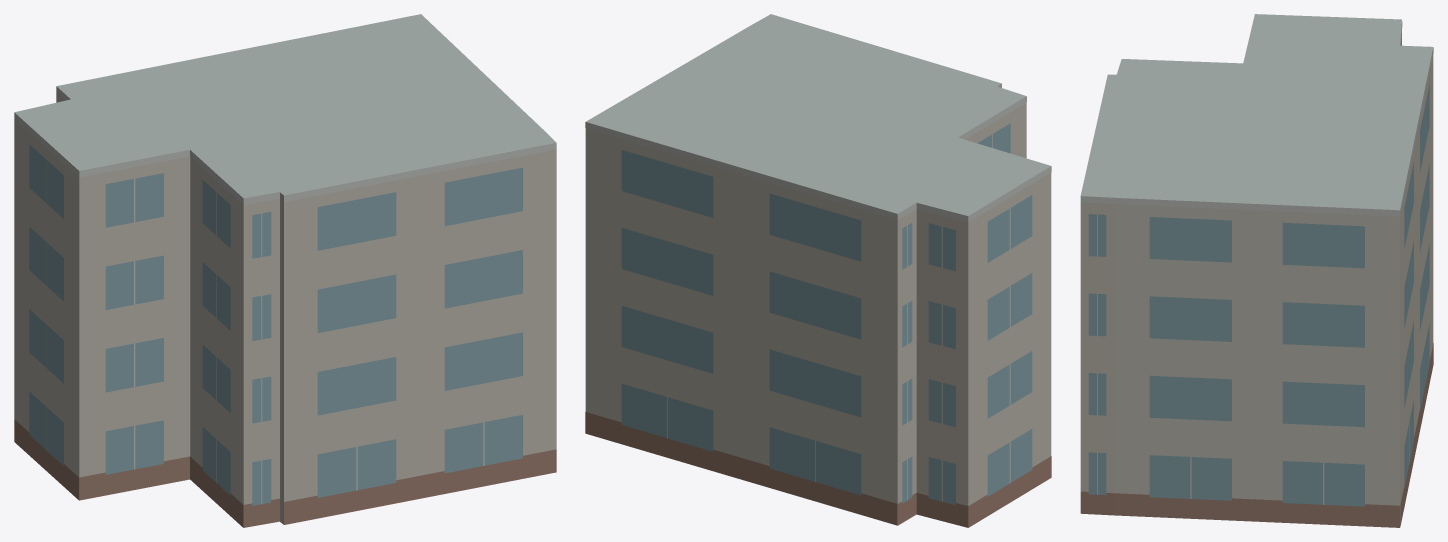
Rendered from survey-upis-32948484.glb.
3 renders of one model, left to right at view 1: azimuth 30°, elevation 25°; view 2: azimuth 150°, elevation 25°; view 3: azimuth 270°, elevation 25°, orthographic. The views are drawn at different scales.
Parts seen in each view (by area): view 1: survey-upis-32948484.tmp; view 2: survey-upis-32948484.tmp; view 3: survey-upis-32948484.tmp.
Part boxes in pixels (x1=…): survey-upis-32948484.tmp: x1=14, y1=14, x2=556, y2=527; survey-upis-32948484.tmp: x1=585, y1=14, x2=1051, y2=527; survey-upis-32948484.tmp: x1=1080, y1=14, x2=1433, y2=527.
Bounding box in the file's own units: 16.18 × 12.2 × 12.3.
